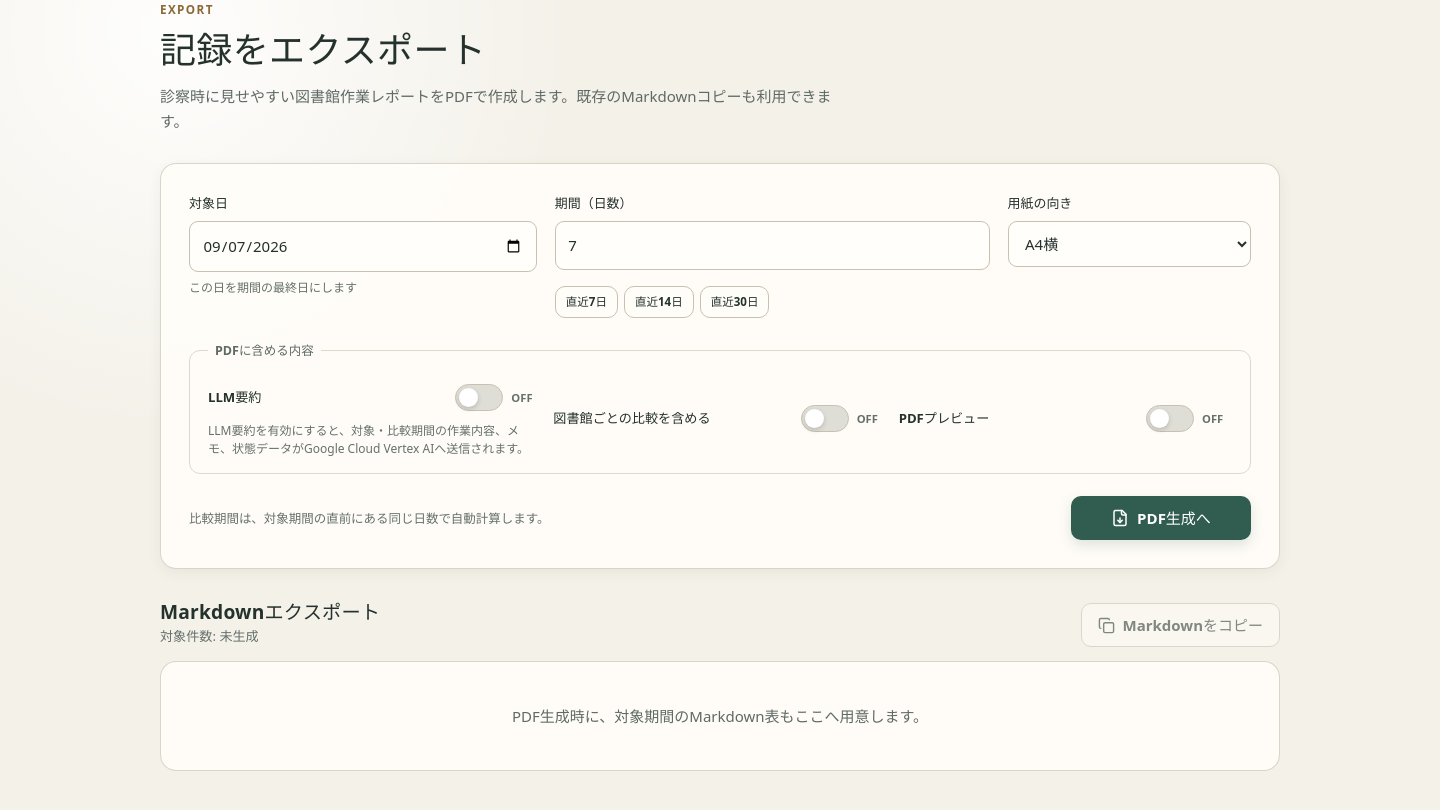
Test: ExportPage › 診察向けの既定値を設定し、生成前に対象と比較期間を確認する
The width and height of the screenshot is (1440, 810).
Expected: the date field with id "report-target-date" holds "2026-09-07", [189,221,537,272]
Expected: the number field with id "report-duration-days" holds "7", [555,221,990,270]
Click the button "PDF生成へ".
click(1161, 518)  # box [1071,496,1251,540]
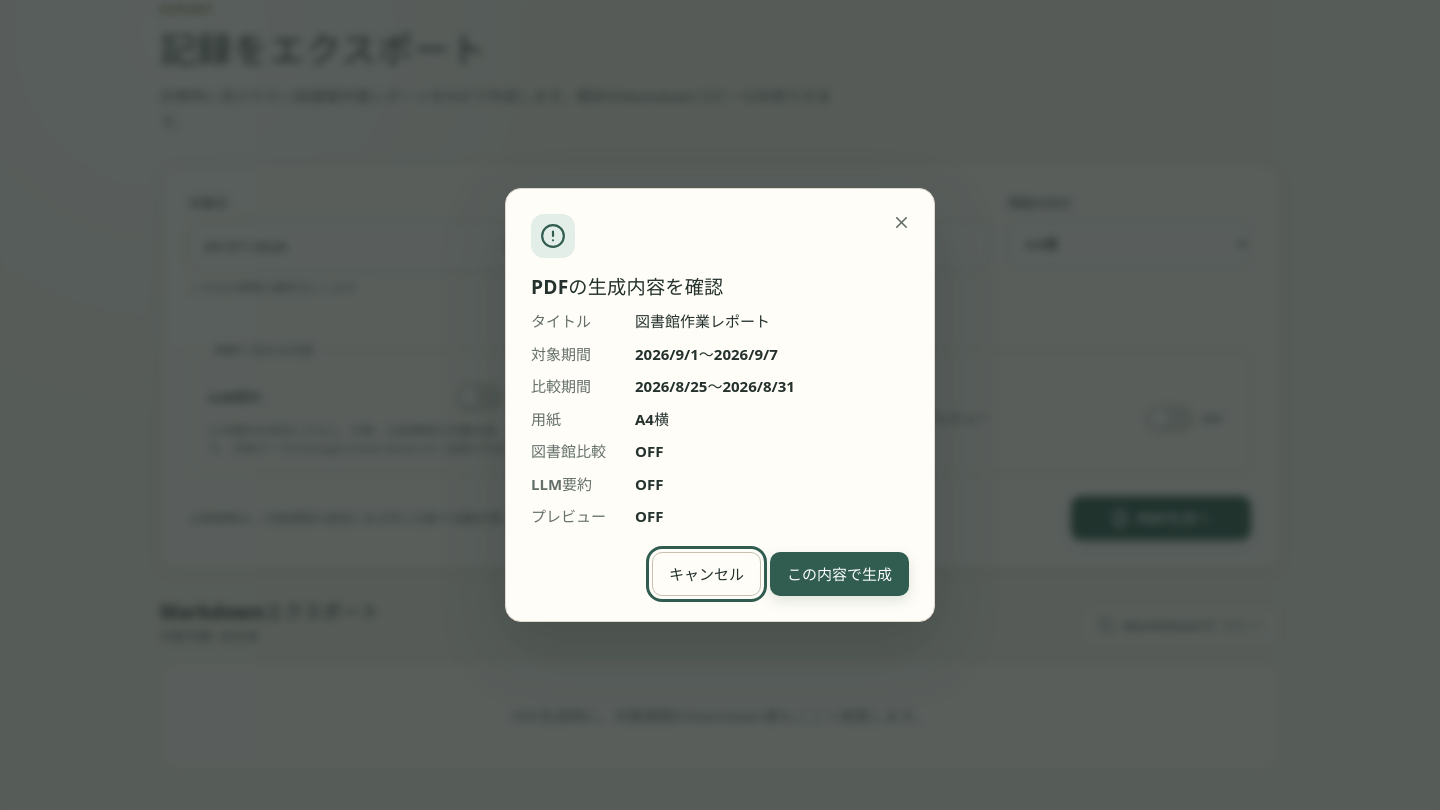
Expected: the element with class "report-confirmation-list" shows "図書館作業レポート", [635,311,770,331]
Expected: the element with class "report-confirmation-list" shows "2026/9/1〜2026/9/7", [635,344,778,364]
Expected: the element with class "report-confirmation-list" shows "2026/8/25〜2026/8/31", [635,376,795,396]
